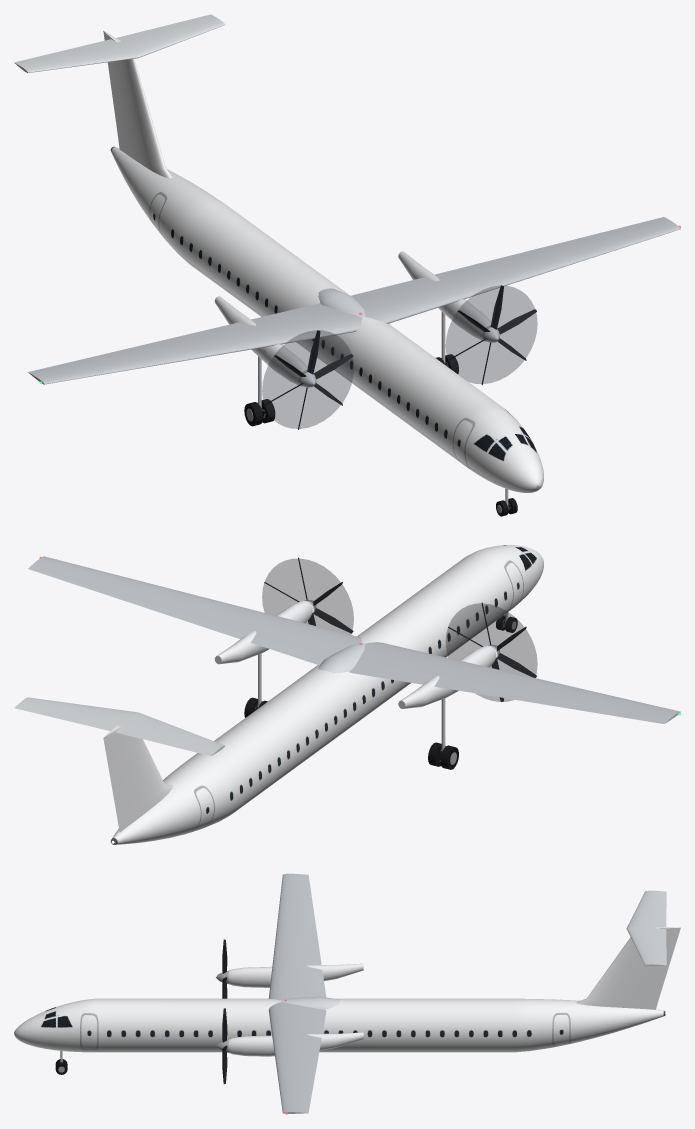
3 views of the same model, one above another, from view 1: azimuth 30°, elevation 25°; view 2: azimuth 150°, elevation 25°; view 3: azimuth 270°, elevation 25° (orthographic). The views are drawn at different scales.
Parts seen in each view (by area): view 1: body, gear; view 2: body, gear; view 3: body.
Part boxes in pixels (x1,y1,x2,y2): body: [14, 14, 680, 492]; gear: [244, 311, 517, 516]; body: [14, 545, 680, 844]; gear: [244, 612, 517, 769]; body: [14, 873, 680, 1114].
Bounding box in the file's own units: 28.64 × 8.09 × 33.62.
16 materials, 1 textured.
